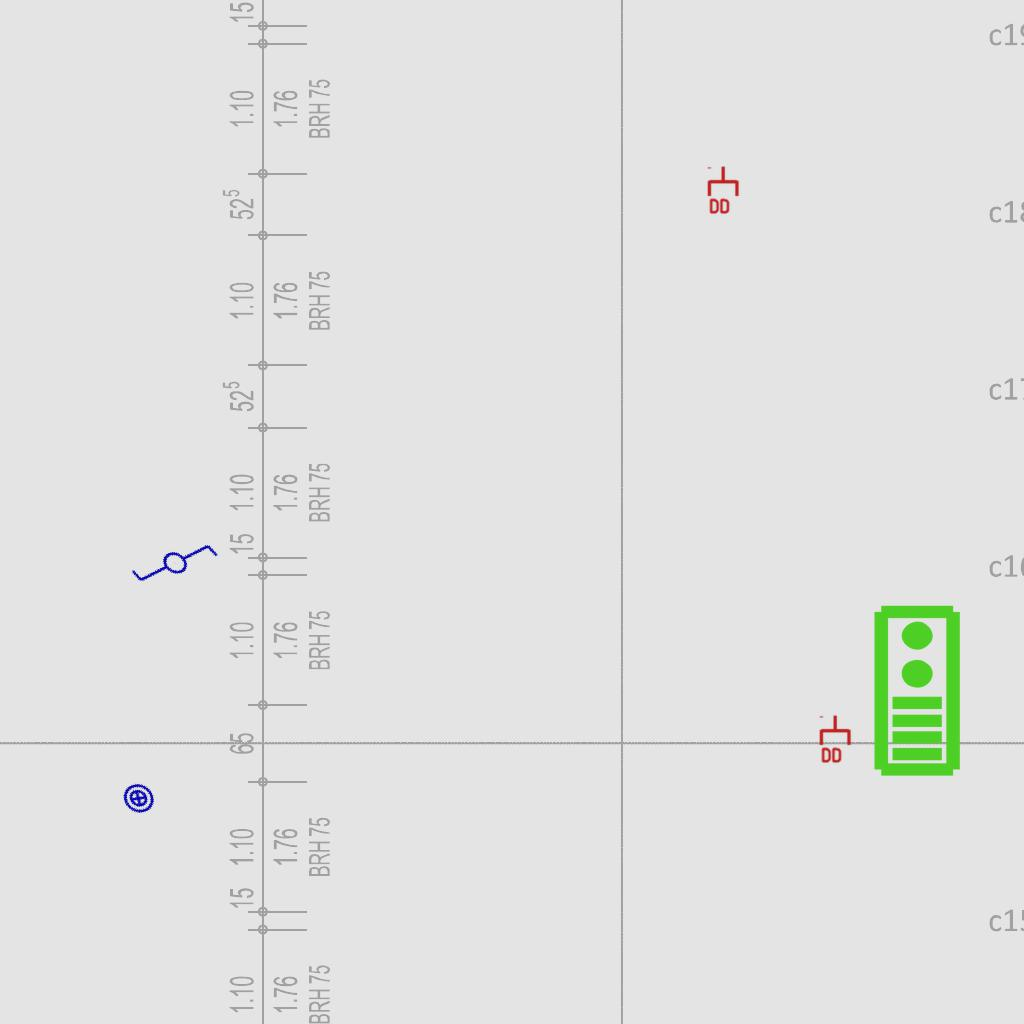Datenanschluss_zweifach: (707, 165, 741, 216), (819, 714, 853, 765)
Gegensprechanlage_mit_Video: (868, 602, 963, 778)
Taster_beleuchtet: (115, 775, 162, 822)
Wechselschalter: (126, 515, 230, 617)
